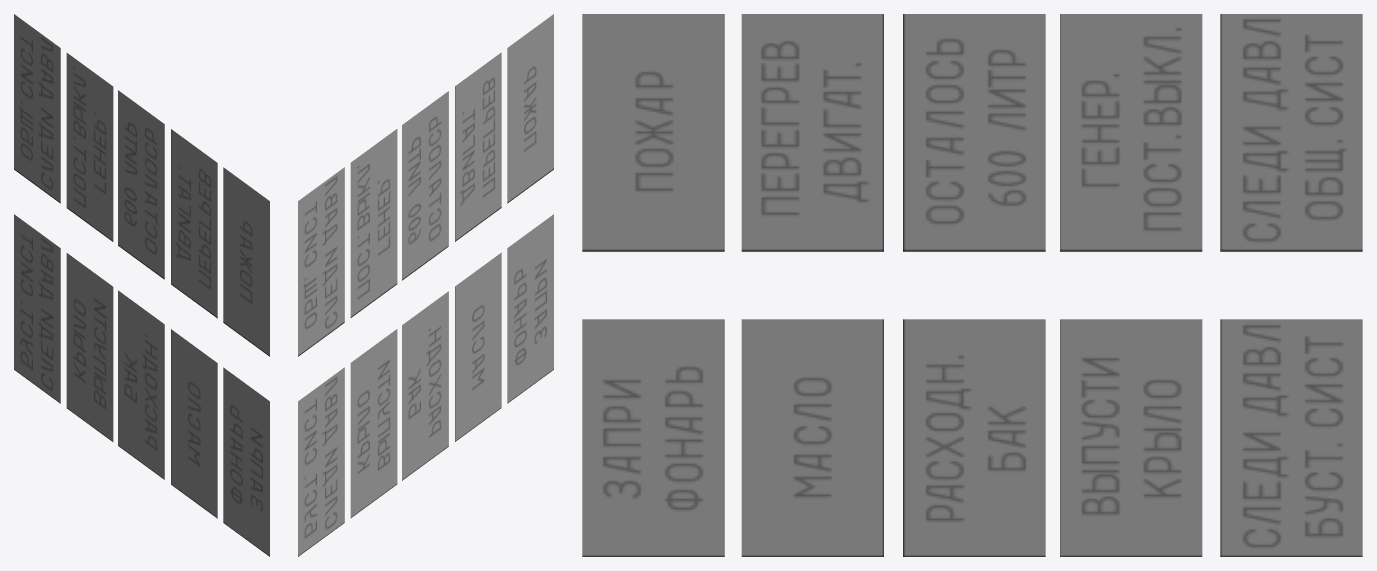
Rendered from warnings2.gltf.
3 views of the same model, side by side, from view 1: azimuth 30°, elevation 25°; view 2: azimuth 150°, elevation 25°; view 3: azimuth 270°, elevation 25° (orthographic). The views are drawn at different scales.
Parts seen in each view (by area): view 1: L08, L07, L03, L02, L05, L09, L01, L04, L06, L10; view 2: L07, L08, L04, L01, L06, L10, L02, L03, L05, L09; view 3: L01, L02, L03, L04, L05, L06, L07, L08, L09, L10.
Part boxes in pixels (x1=…): L08: x1=66, y1=53, x2=113, y2=241; L07: x1=66, y1=253, x2=113, y2=441; L03: x1=171, y1=329, x2=217, y2=518; L02: x1=223, y1=167, x2=269, y2=356; L05: x1=118, y1=290, x2=164, y2=479; L09: x1=14, y1=214, x2=60, y2=403; L01: x1=223, y1=367, x2=269, y2=556; L04: x1=171, y1=129, x2=217, y2=318; L06: x1=118, y1=90, x2=164, y2=279; L10: x1=14, y1=14, x2=60, y2=203; L07: x1=350, y1=329, x2=397, y2=517; L08: x1=350, y1=129, x2=397, y2=317; L04: x1=455, y1=52, x2=501, y2=241; L01: x1=507, y1=214, x2=553, y2=403; L06: x1=402, y1=91, x2=448, y2=280; L10: x1=298, y1=167, x2=344, y2=356; L02: x1=507, y1=14, x2=553, y2=203; L03: x1=455, y1=252, x2=501, y2=441; L05: x1=402, y1=291, x2=448, y2=480; L09: x1=298, y1=367, x2=344, y2=556; L01: x1=582, y1=319, x2=724, y2=556; L02: x1=582, y1=14, x2=724, y2=251; L03: x1=741, y1=319, x2=883, y2=556; L04: x1=741, y1=14, x2=883, y2=251; L05: x1=903, y1=319, x2=1045, y2=556; L06: x1=903, y1=14, x2=1045, y2=251; L07: x1=1060, y1=319, x2=1202, y2=556; L08: x1=1060, y1=14, x2=1202, y2=251; L09: x1=1220, y1=319, x2=1362, y2=556; L10: x1=1220, y1=14, x2=1362, y2=251.
Size of the model in its own units: 0 by 0.0479 by 0.0623.
1 material, 1 textured.
